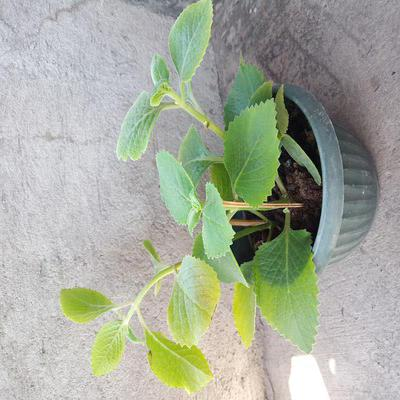Oregano: (73, 43, 306, 348)
